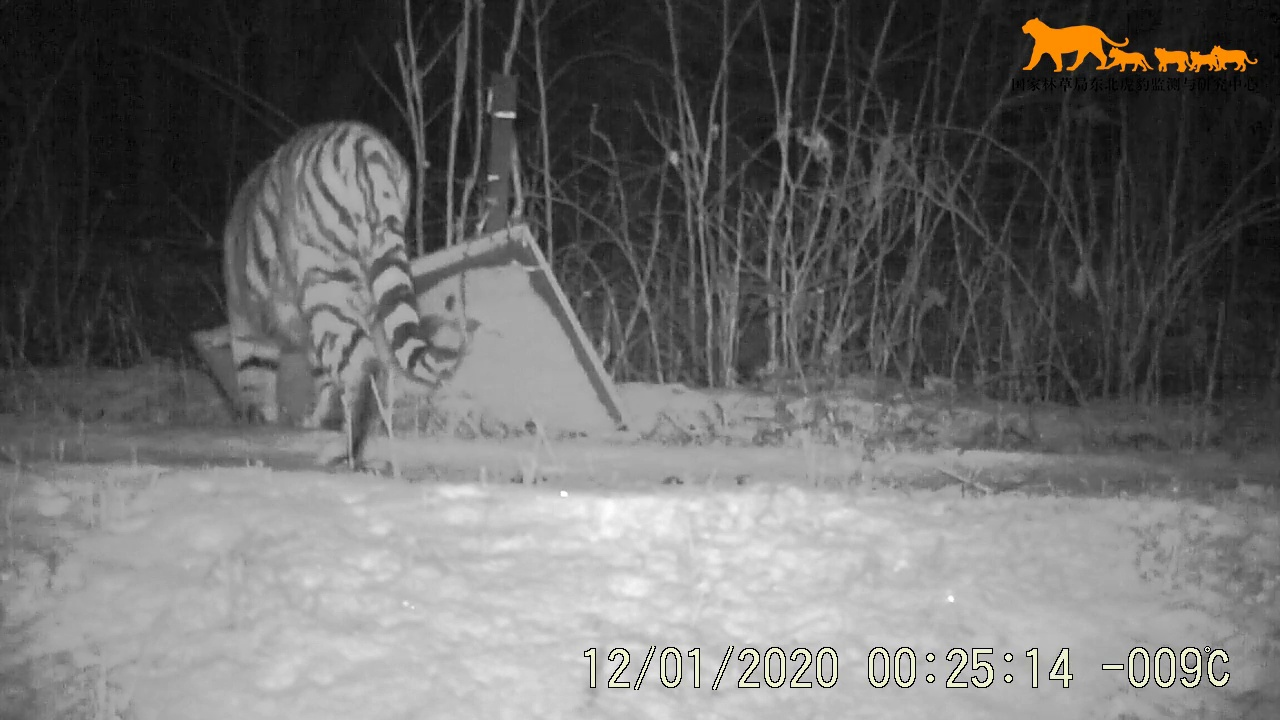Tiger: (162, 93, 541, 532)
